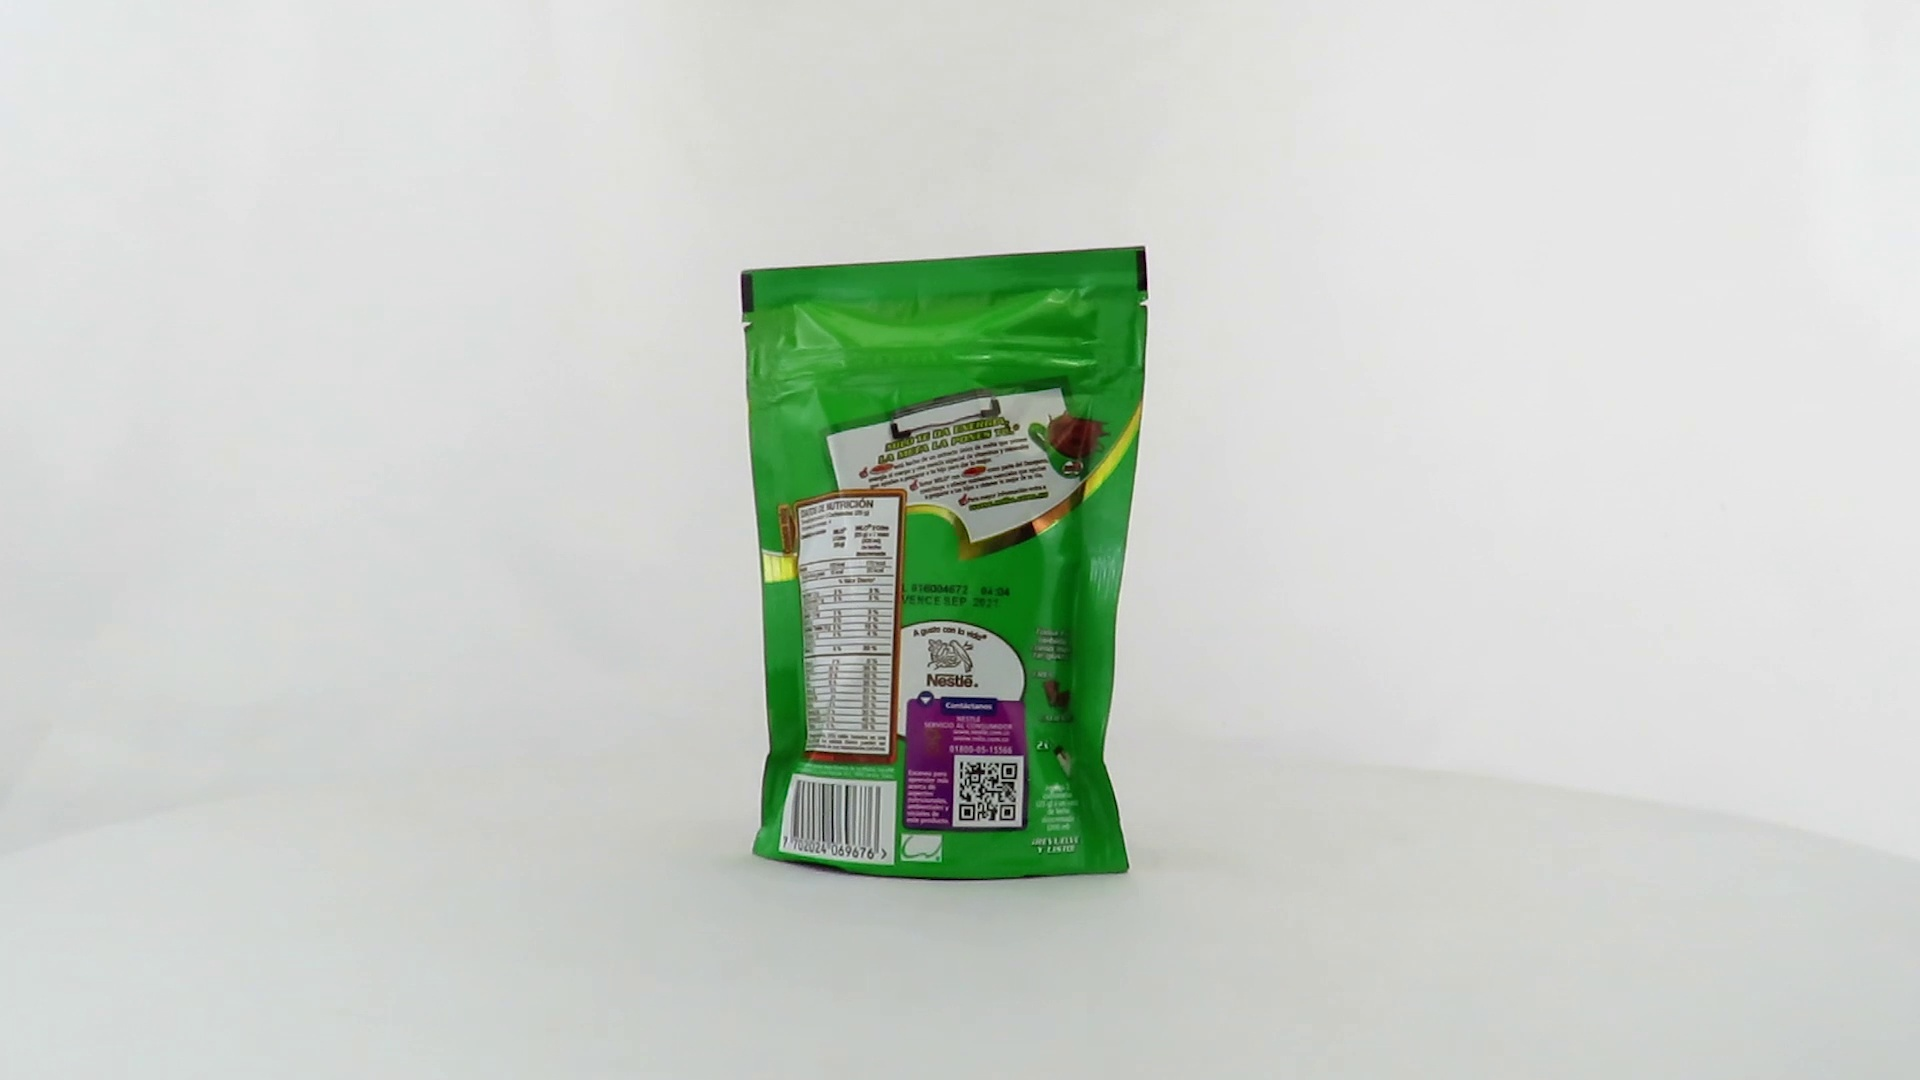COL0170203DYP10000: (735, 241, 1155, 887)
